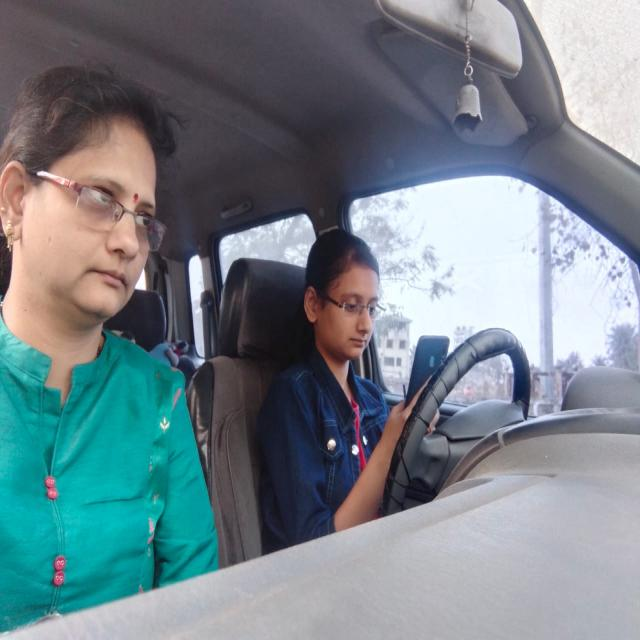mobile: (403, 319, 459, 442)
person: (0, 57, 178, 336), (298, 223, 385, 369)
